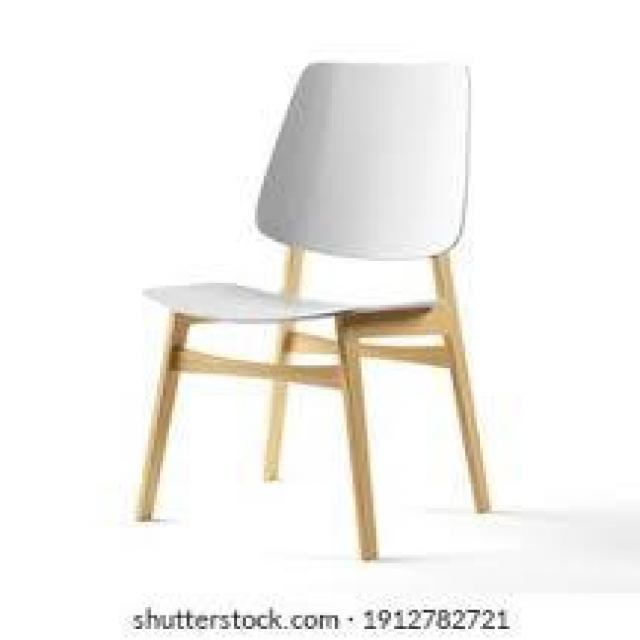chair: (117, 41, 535, 563)
